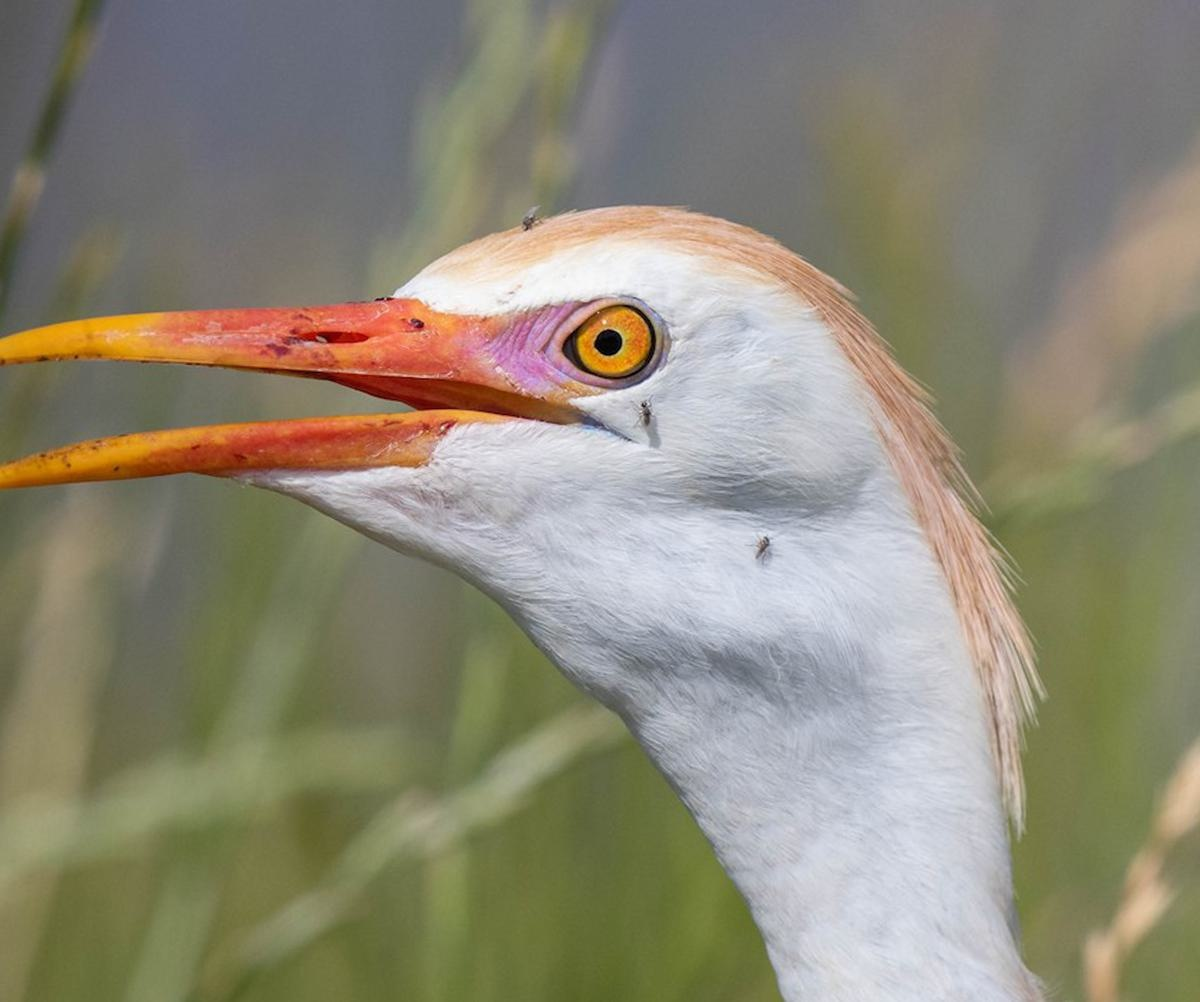egret: (26, 196, 1106, 1002)
